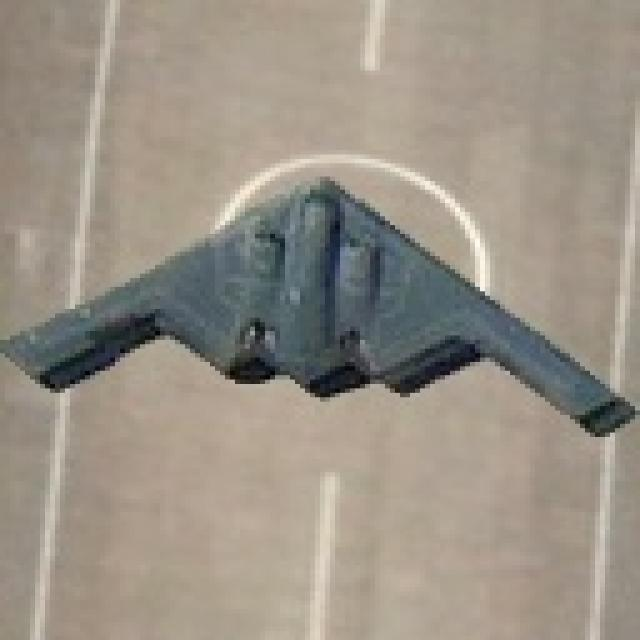B-2_TopDown: (0, 164, 635, 442)
